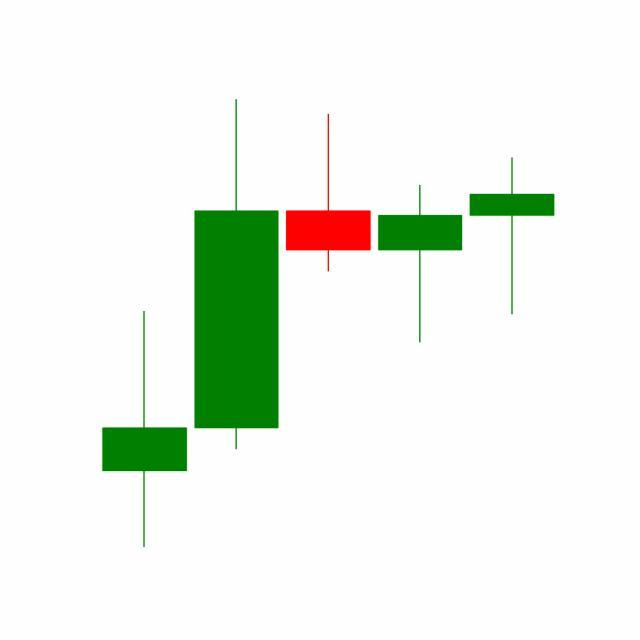Dragonfly Doji: (374, 183, 468, 346)
